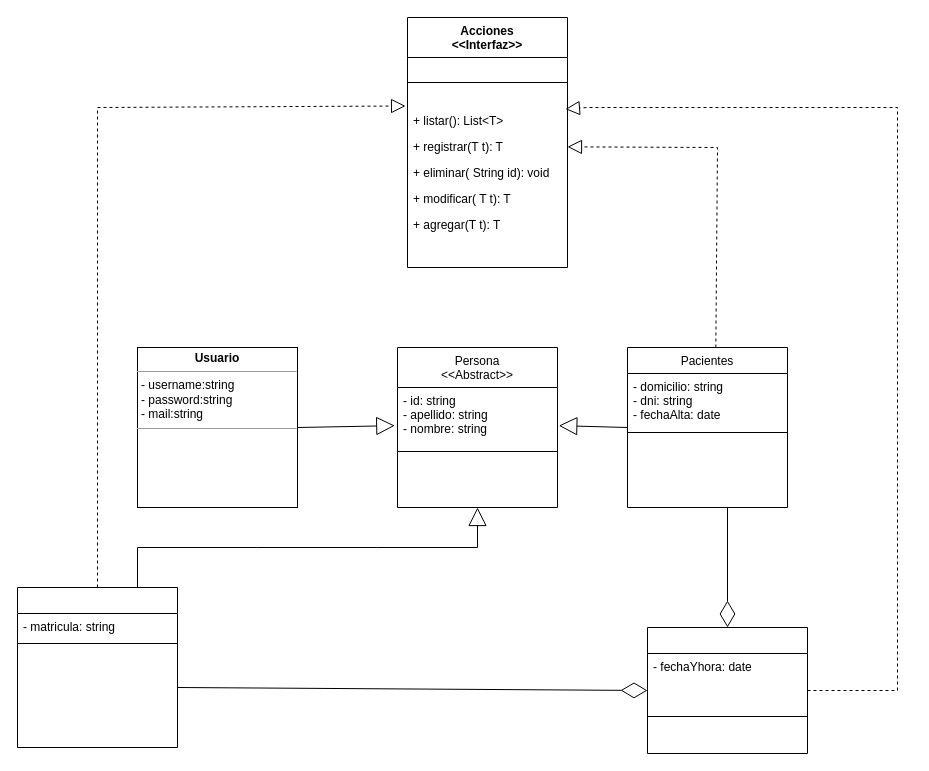
Image size: 929x771. Some labels were removed from this diagram. Here are the shapes that lost their labels. From the top down, the box of each, then its label:
(16, 586, 178, 748): Odontologos
(646, 626, 808, 754): Turnos
